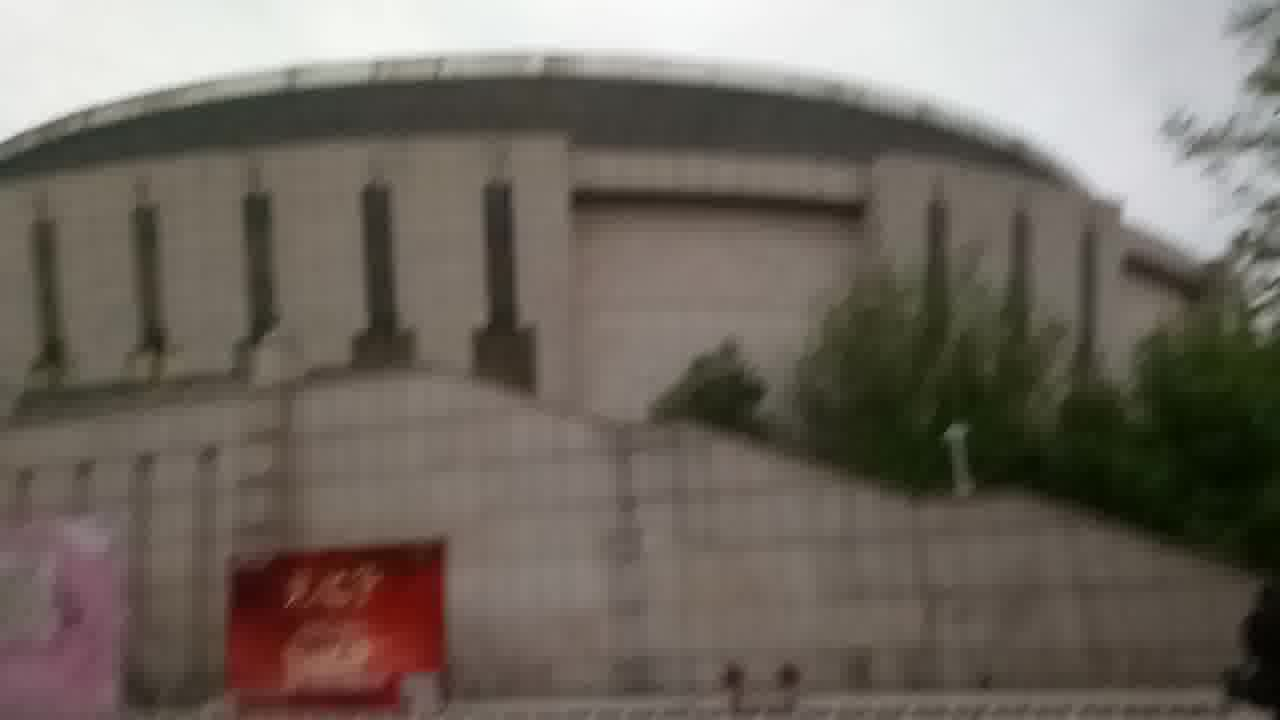zhongtiww: (22, 41, 1280, 717)
